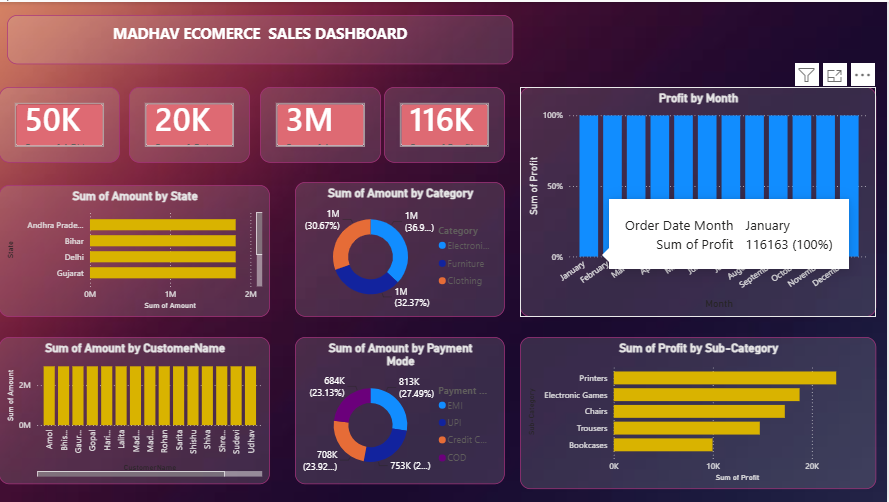

The page's visual inventory and layout, read from the dashboard file:
{"tool":"powerbi","page":{"name":"Page 1","canvas":[1280,720],"ordinal":0},"visuals":[{"type":"textbox","box":[11.8,18.5,729,70.6],"z":0},{"type":"hundredPercentStackedColumnChart","title":" Profit by Month","fields":{"Y":["Sum(Sheet.Profit)"],"Category":["Orders.Order Date.Variation.Date Hierarchy.Month"]},"box":[750.2,122.4,512.6,331.2],"z":1000},{"type":"barChart","fields":{"Category":["Sheet.Sub-Category"],"Y":["Sum(Sheet.Profit)"]},"box":[750.2,482.4,512.6,218.9],"z":2000},{"type":"donutChart","fields":{"Y":["Sum(Sheet.Amount)"],"Category":["Sheet.Category"]},"box":[426.2,259.2,302.4,194.4],"z":3000},{"type":"donutChart","fields":{"Y":["Sum(Sheet.Amount)"],"Category":["Sheet.Payment Mode"]},"box":[426.2,482.4,302.4,211.7],"z":4000},{"type":"cardVisual","fields":{"Data":["Sum(Sheet.Amount)"]},"box":[375.8,122.4,174.2,109.4],"z":5000},{"type":"cardVisual","fields":{"Data":["Sum(Sheet.Profit)"]},"box":[554.4,122.4,174.2,109.4],"z":6000},{"type":"cardVisual","fields":{"Data":["Sum(Orders.Column)"]},"box":[187.2,122.4,174.2,109.4],"z":7000},{"type":"cardVisual","fields":{"Data":["Sum(Orders.AOV)"]},"box":[0,122.4,174.2,109.4],"z":8000},{"type":"barChart","fields":{"Category":["Orders.State"],"Y":["Sum(Sheet.Amount)"]},"box":[0,263.5,390.2,190.1],"z":9000},{"type":"columnChart","fields":{"Category":["Orders.CustomerName"],"Y":["Sum(Sheet.Amount)"]},"box":[0,482,390,212],"z":10000}]}

Visuals, with their boxes in screenshot pixels (x1, y1, x2, y2), scaled from the page's 1280x720 canvas onto the 889x502 screenshot:
textbox: [8, 13, 515, 62]
" Profit by Month" hundredPercentStackedColumnChart: [521, 85, 877, 316]
barChart - Sheet.Sub-Category x Sum(Sheet.Profit): [521, 336, 877, 489]
donutChart - Sum(Sheet.Amount) x Sheet.Category: [296, 181, 506, 316]
donutChart - Sum(Sheet.Amount) x Sheet.Payment Mode: [296, 336, 506, 484]
cardVisual - Sum(Sheet.Amount): [261, 85, 382, 162]
cardVisual - Sum(Sheet.Profit): [385, 85, 506, 162]
cardVisual - Sum(Orders.Column): [130, 85, 251, 162]
cardVisual - Sum(Orders.AOV): [0, 85, 121, 162]
barChart - Orders.State x Sum(Sheet.Amount): [0, 184, 271, 316]
columnChart - Orders.CustomerName x Sum(Sheet.Amount): [0, 336, 271, 484]
